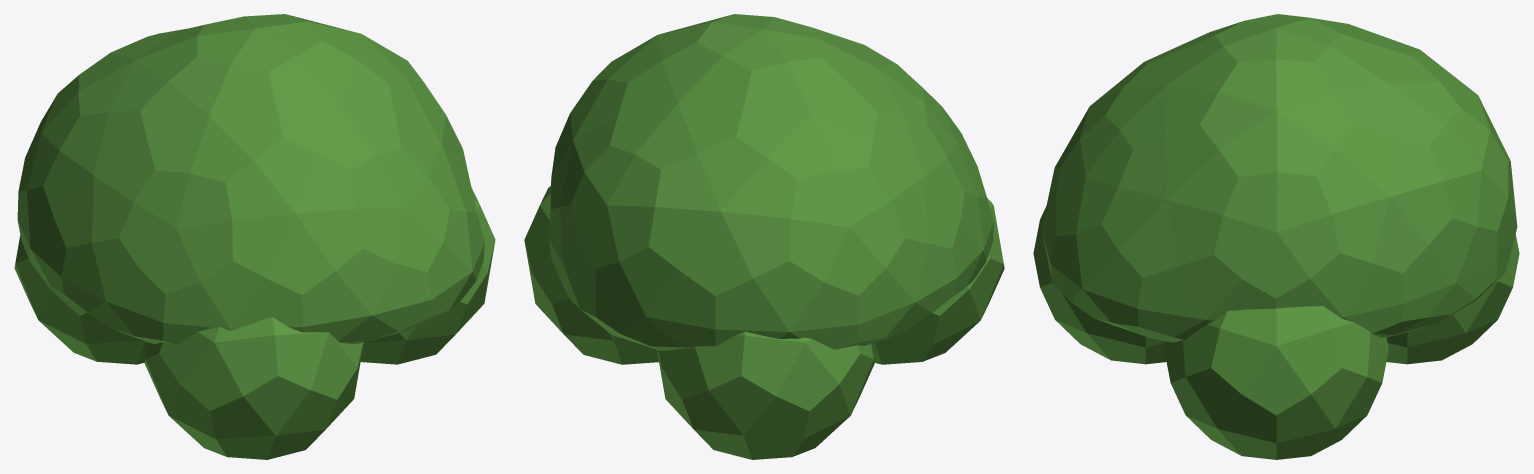
File: tree_variant_A_v001.glb
The picture shows the model from 3 angles, left to right: view 1: azimuth 30°, elevation 25°; view 2: azimuth 150°, elevation 25°; view 3: azimuth 270°, elevation 25°; orthographic projection.
Visible parts, largest first — view 1: Canopy_Tree_Trunk_A_main.001; view 2: Canopy_Tree_Trunk_A_main.001; view 3: Canopy_Tree_Trunk_A_main.001.
Boxes of the visible parts, bbox=[...] form: Canopy_Tree_Trunk_A_main.001: bbox=[14, 14, 495, 459]; Canopy_Tree_Trunk_A_main.001: bbox=[524, 14, 1004, 459]; Canopy_Tree_Trunk_A_main.001: bbox=[1033, 14, 1519, 459].
Bounding box in the file's own units: 4.83 × 4.62 × 4.83.
